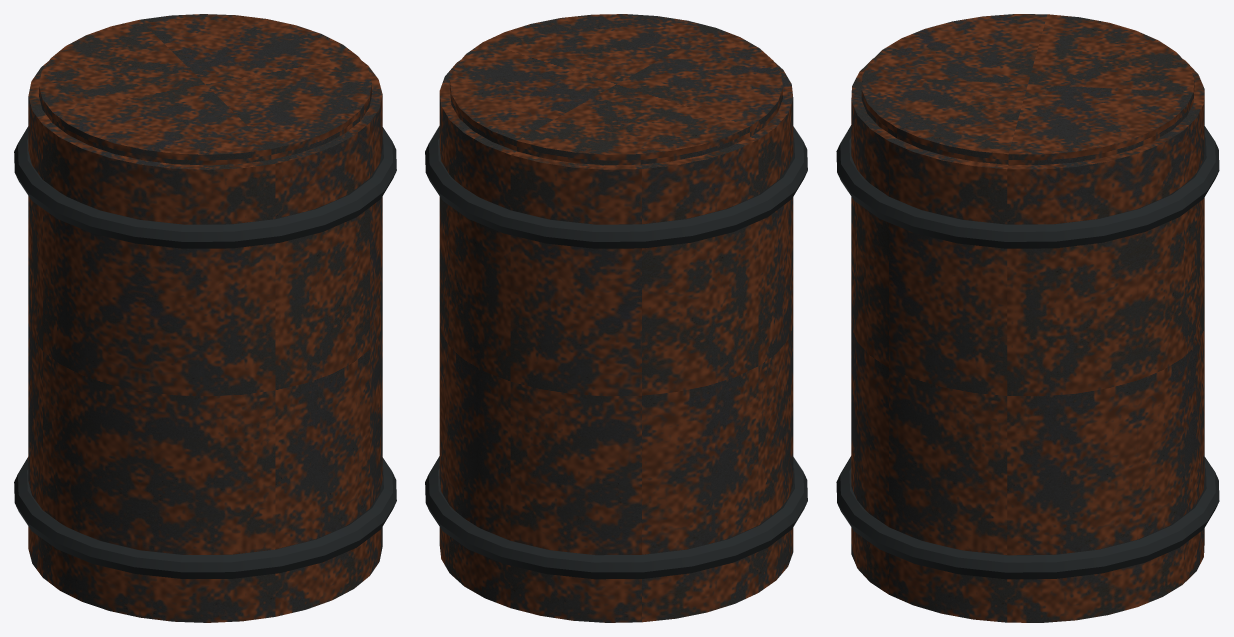
Rendered from SM_Barrel_ca8b1e8789.fbx.
The picture shows the model from 3 angles, left to right: view 1: azimuth 30°, elevation 25°; view 2: azimuth 150°, elevation 25°; view 3: azimuth 270°, elevation 25°; orthographic projection.
Parts seen in each view (by area): view 1: SM_Barrel_ca8b1e8789; view 2: SM_Barrel_ca8b1e8789; view 3: SM_Barrel_ca8b1e8789.
Boxes of the visible parts, x1=… form: SM_Barrel_ca8b1e8789: x1=14, y1=14, x2=396, y2=622; SM_Barrel_ca8b1e8789: x1=425, y1=14, x2=807, y2=622; SM_Barrel_ca8b1e8789: x1=836, y1=14, x2=1219, y2=622.
Size of what is drawn, in the model's own units: 73.49 by 73.49 by 98.25.
Materials: 2 (1 with a texture image).
